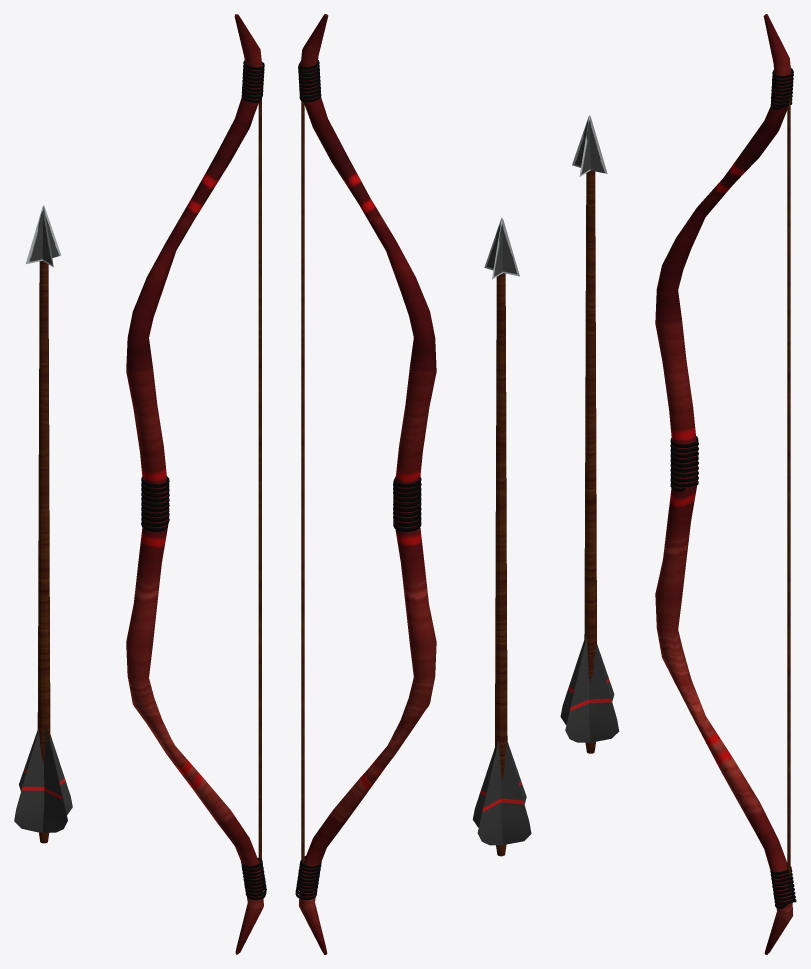
Rendered from bow_and_arrow-transformed.glb.
The picture shows the model from 3 angles, left to right: view 1: azimuth 30°, elevation 25°; view 2: azimuth 150°, elevation 25°; view 3: azimuth 330°, elevation 25°; orthographic projection.
Parts seen in each view (by area): view 1: limb, shaft, fletching, string1, rope, grip, Arrow_point; view 2: limb, shaft, fletching, string1, rope, grip, Arrow_point; view 3: limb, shaft, fletching, string1, rope, grip, Arrow_point.
Part boxes in pixels (bbox=[...]): limb: bbox=[126, 14, 263, 954]; shaft: bbox=[37, 261, 50, 843]; fletching: bbox=[14, 726, 72, 832]; string1: bbox=[258, 99, 261, 862]; rope: bbox=[241, 60, 266, 900]; grip: bbox=[141, 476, 169, 531]; Arrow_point: bbox=[26, 205, 61, 266]; limb: bbox=[298, 14, 436, 954]; shaft: bbox=[495, 273, 507, 856]; fletching: bbox=[472, 740, 531, 845]; string1: bbox=[301, 101, 304, 862]; rope: bbox=[295, 60, 321, 900]; grip: bbox=[393, 476, 421, 531]; Arrow_point: bbox=[484, 217, 519, 279]; limb: bbox=[655, 14, 793, 954]; shaft: bbox=[584, 170, 596, 753]; fletching: bbox=[560, 636, 619, 742]; string1: bbox=[787, 84, 790, 892]; rope: bbox=[770, 68, 796, 908]; grip: bbox=[670, 436, 698, 491]; Arrow_point: bbox=[572, 115, 607, 176].
Size of the model in its own units: 0.3064 by 1.14 by 0.1078.
6 materials, 5 textured.
